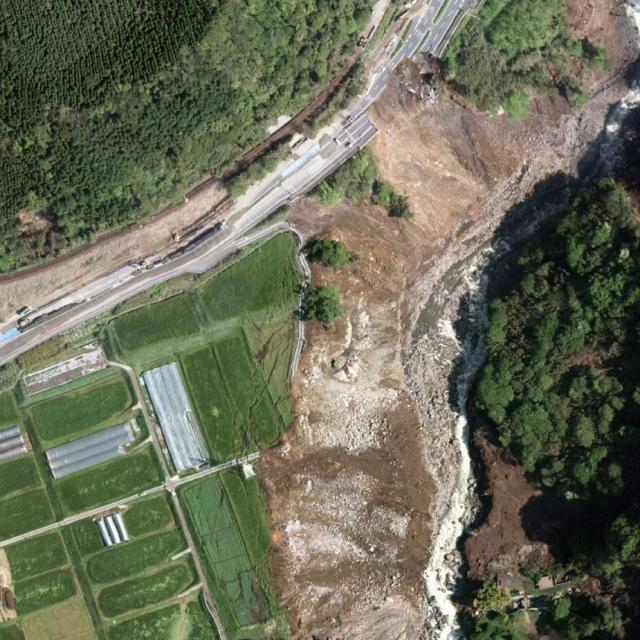landslide: (258, 1, 640, 640)
